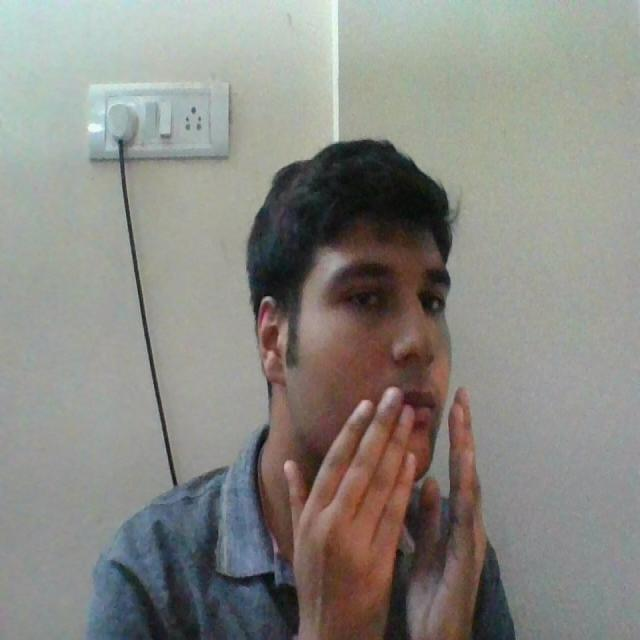Thanks: (246, 351, 561, 640)
